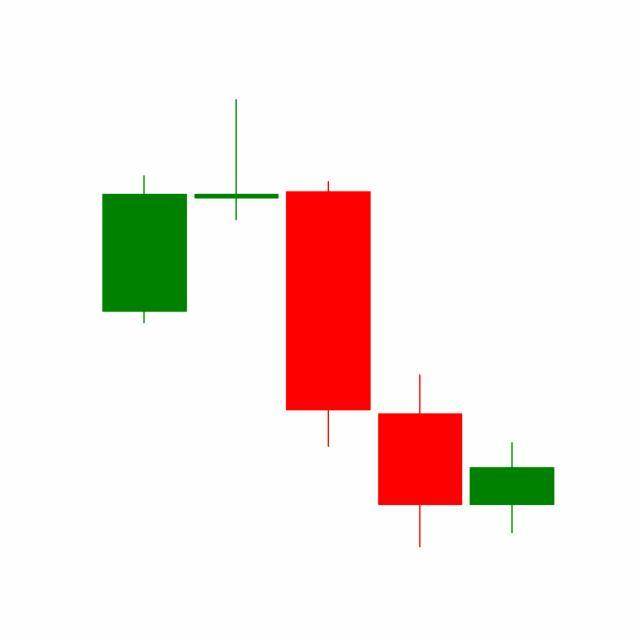Three Outside Up-Down: (190, 99, 467, 549)
